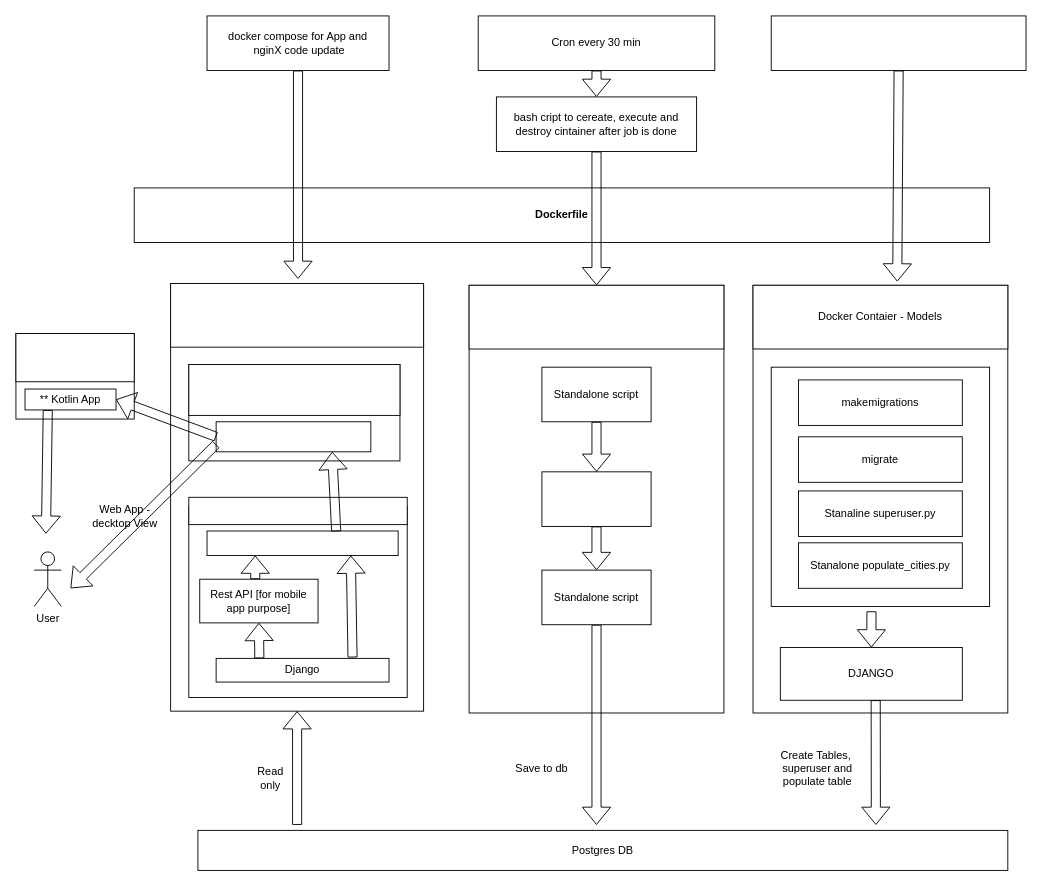
The diagram is 1042 pixels wide and 886 high, and some of its shapes have lost their labels. Here are the shapes that lost their labels. From the top down, the centre of each, then its label:
At [898,43]: "bash for initial deployment and update of models and destroy container".
At [297,315]: "Docker Compose - APP".
At [596,316]: "Docker Contaier - Standalone".
At [74,357]: "** Mobile app".
At [294,389]: "nginX Container".
At [293,436]: "ngineX".
At [297,510]: "Web App Container".
At [596,498]: "3rd Party API".
At [302,543]: "Gunicorn".
